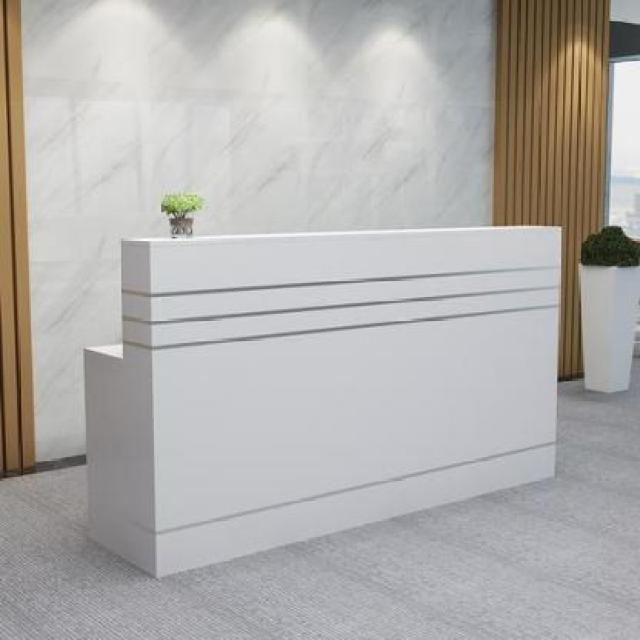frontdesk: (78, 212, 571, 592)
